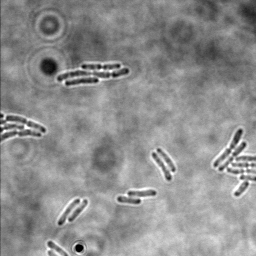Dividing: (150, 151, 174, 182)
Microcolony: (212, 127, 256, 198), (56, 61, 132, 87), (1, 112, 47, 143)
Rod: (56, 198, 80, 226), (155, 146, 177, 174), (67, 198, 88, 223), (126, 188, 158, 199), (116, 194, 142, 206)
